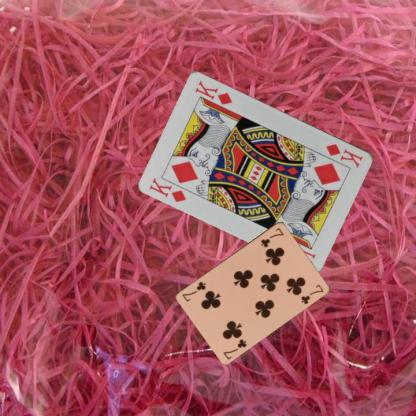7c: (221, 336, 248, 361), (258, 225, 285, 248)
Kd: (324, 140, 364, 169), (147, 175, 188, 203)
